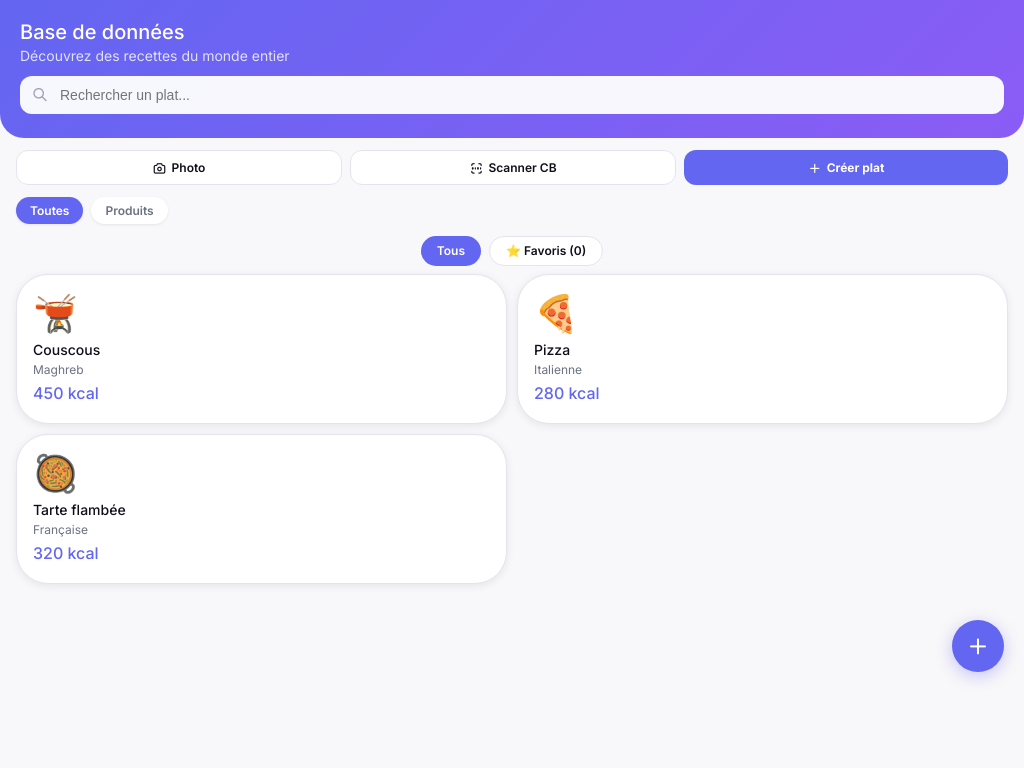
DishesPage (REG-06b) › Produits filter tab loads and displays products
Expected: the text "Couscous" is shown, left=33, top=341, right=100, bottom=358
Click the button "Produits": (130, 210) left=92, top=197, right=168, bottom=224
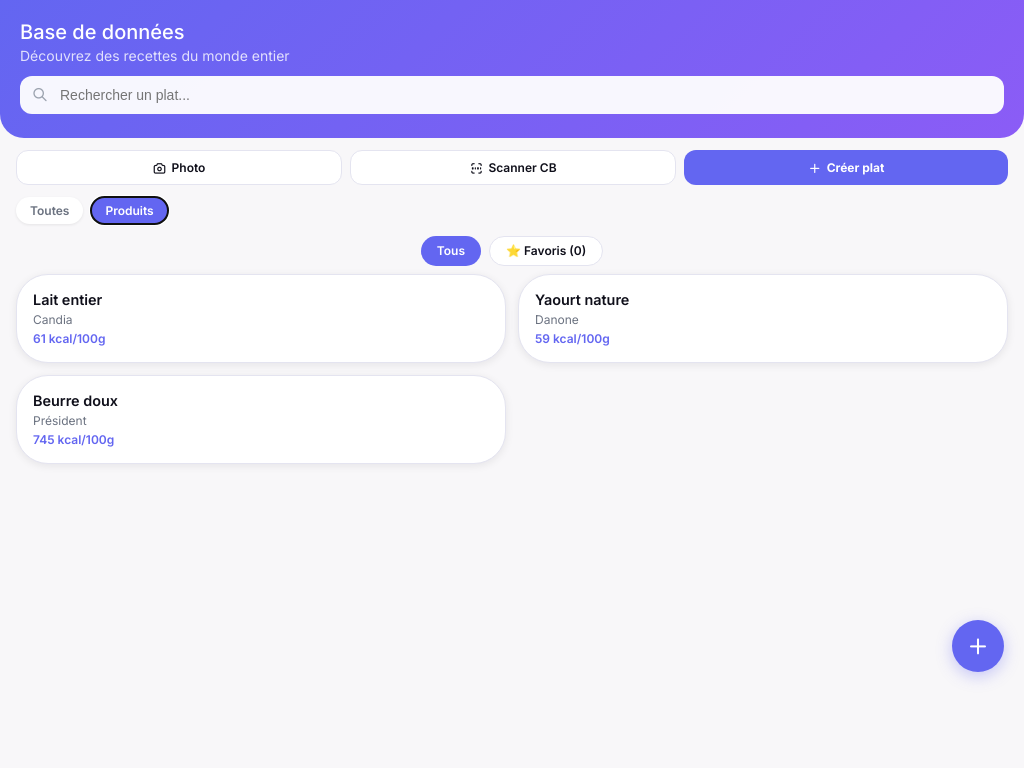
Expected: the text "Lait entier" is shown, left=33, top=291, right=102, bottom=308
Expected: the text "Yaourt nature" is shown, left=535, top=291, right=629, bottom=308
Expected: the text "Beurre doux" is shown, left=33, top=392, right=118, bottom=409
